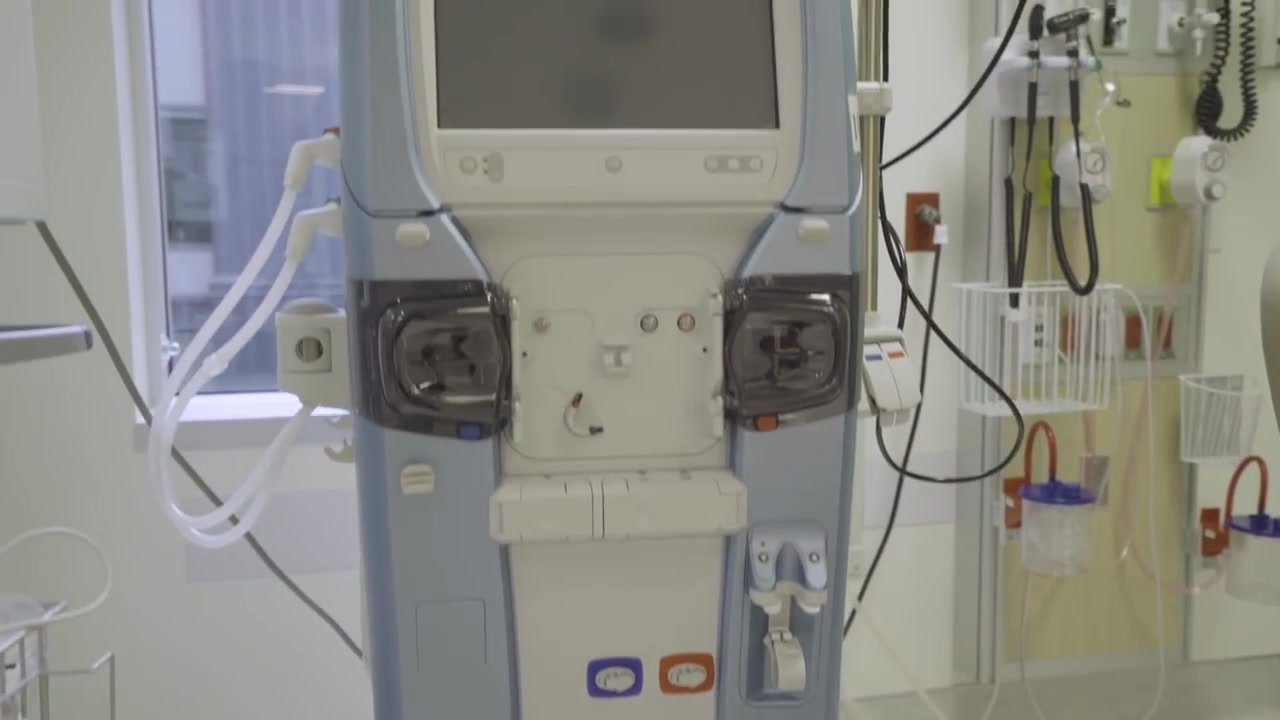bedside_monitor: (421, 1, 806, 156)
breathing_tube: (155, 127, 349, 569)
iv_pole: (854, 1, 896, 310)
sequential_compression: (332, 1, 865, 720)
ventilator: (277, 6, 886, 720)
